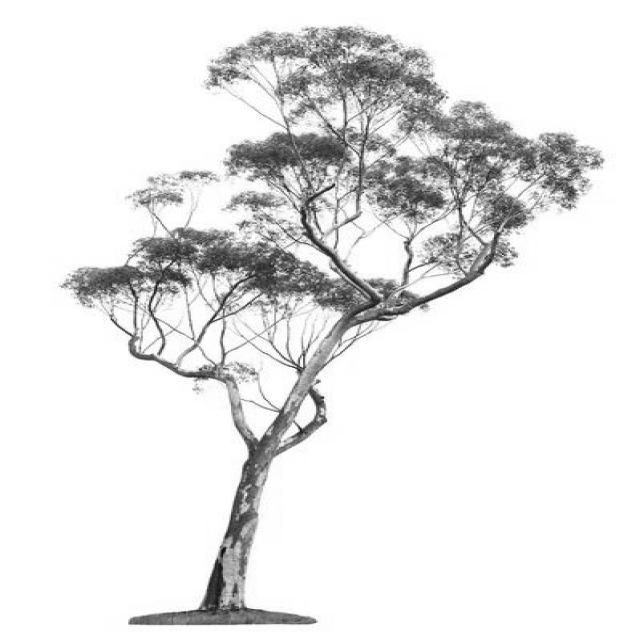Tree: (64, 27, 602, 626)
